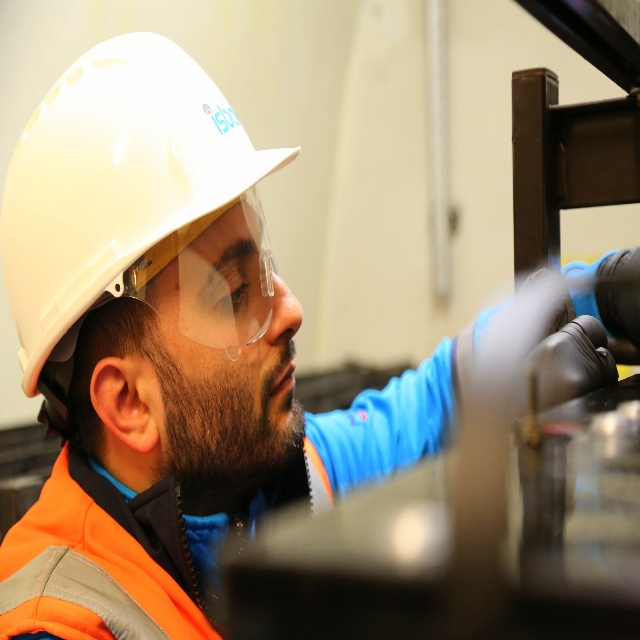Gafas: (120, 184, 290, 362)
Guantes: (516, 315, 619, 414)
